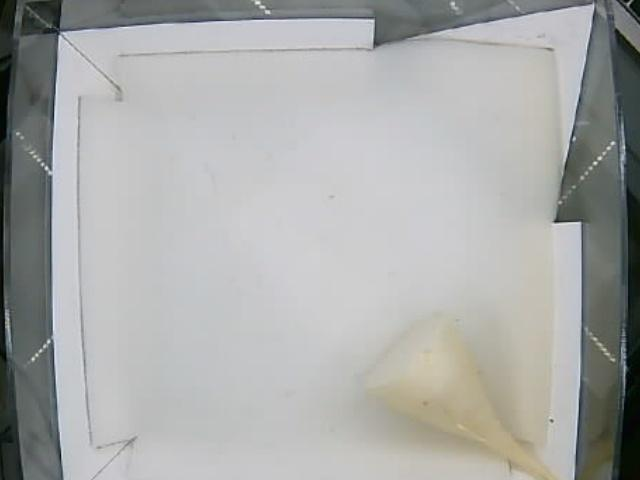Mooli: (360, 313, 518, 450)
